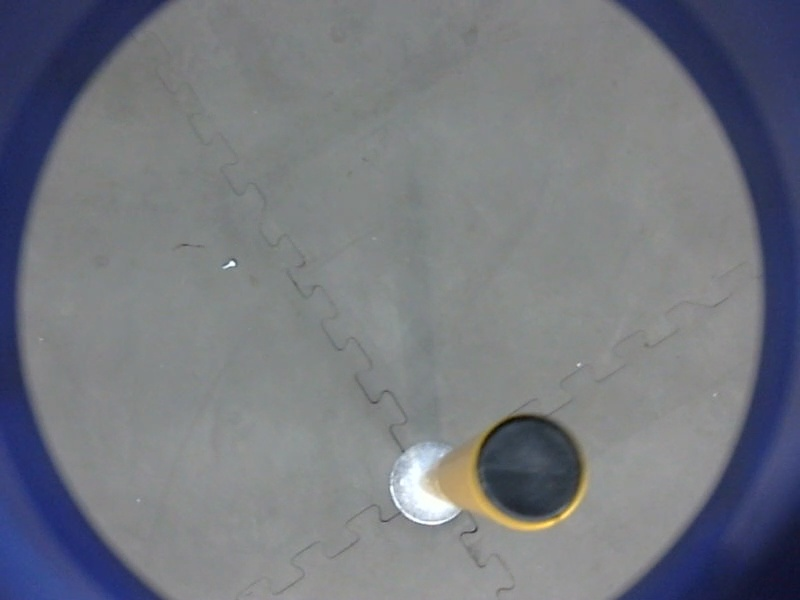tip: (468, 409, 595, 535)
